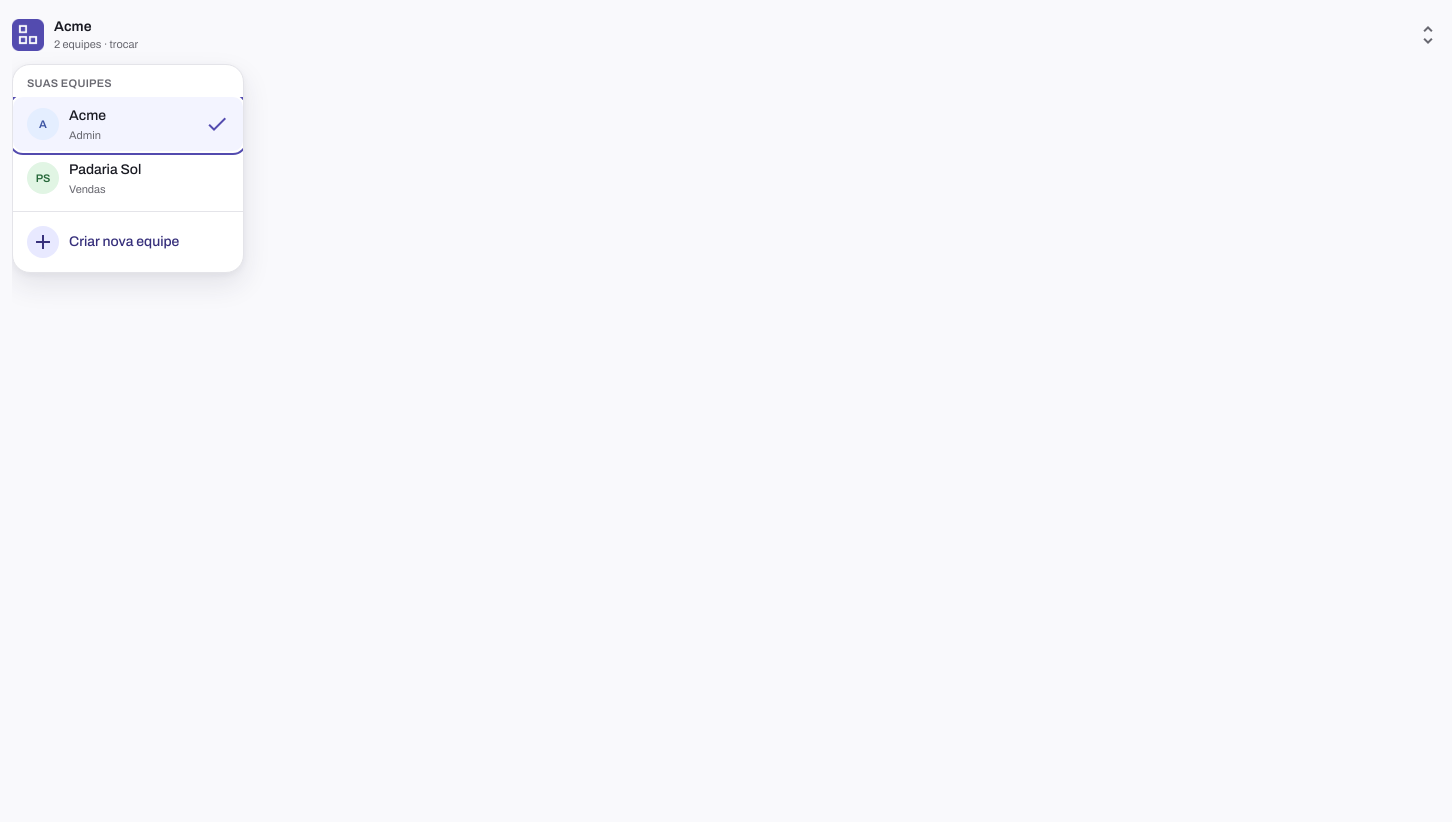
Test case: SeletorDeEquipe › trocar de equipe entra nela e vai para o Início
Earlier steps of the test are not shown.
Click the menu item "PS Padaria Sol Vendas".
click(128, 178)  # box [13,150,243,204]
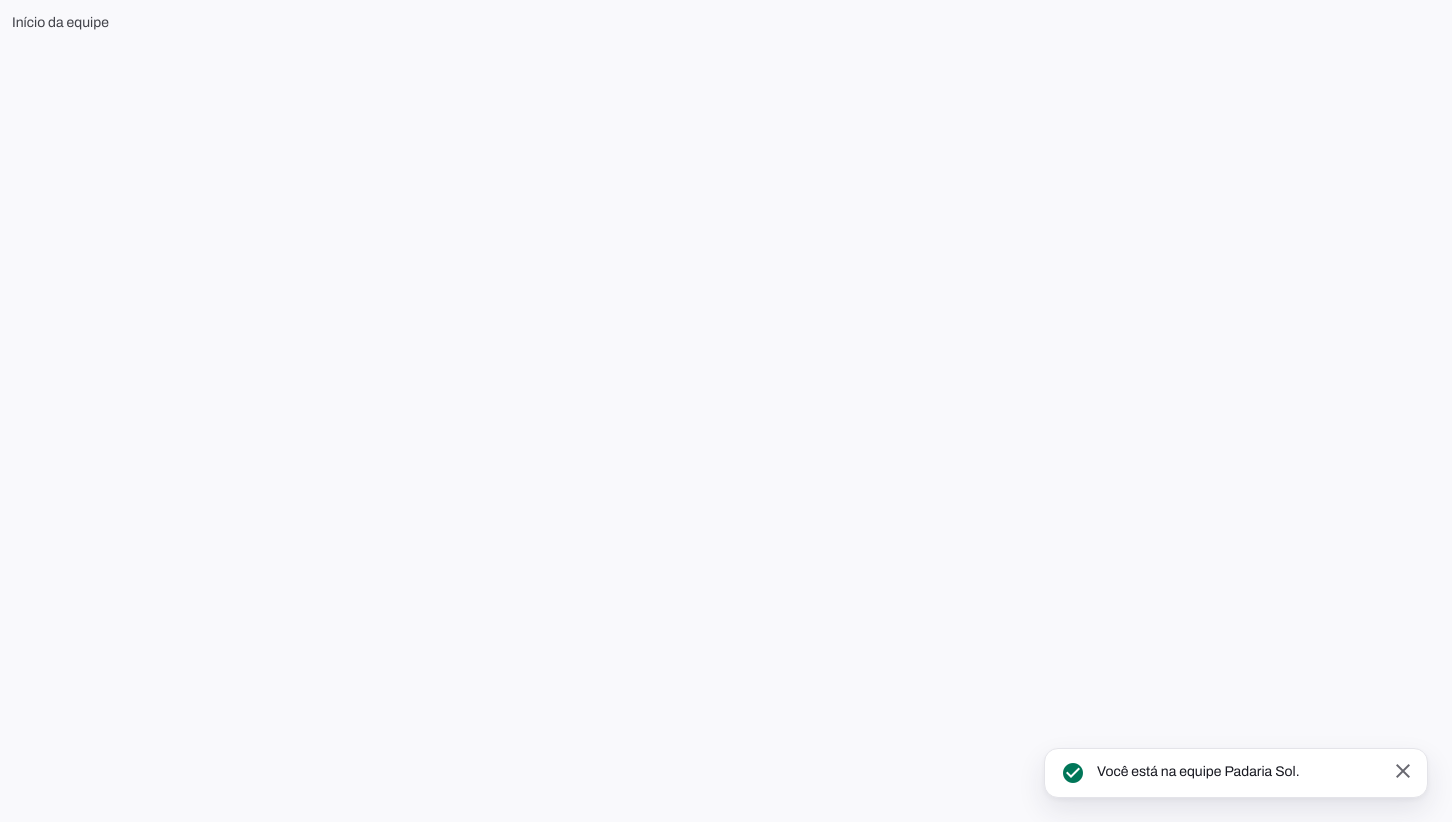
Expected: the text "Início da equipe" is shown, [12,15,109,30]
